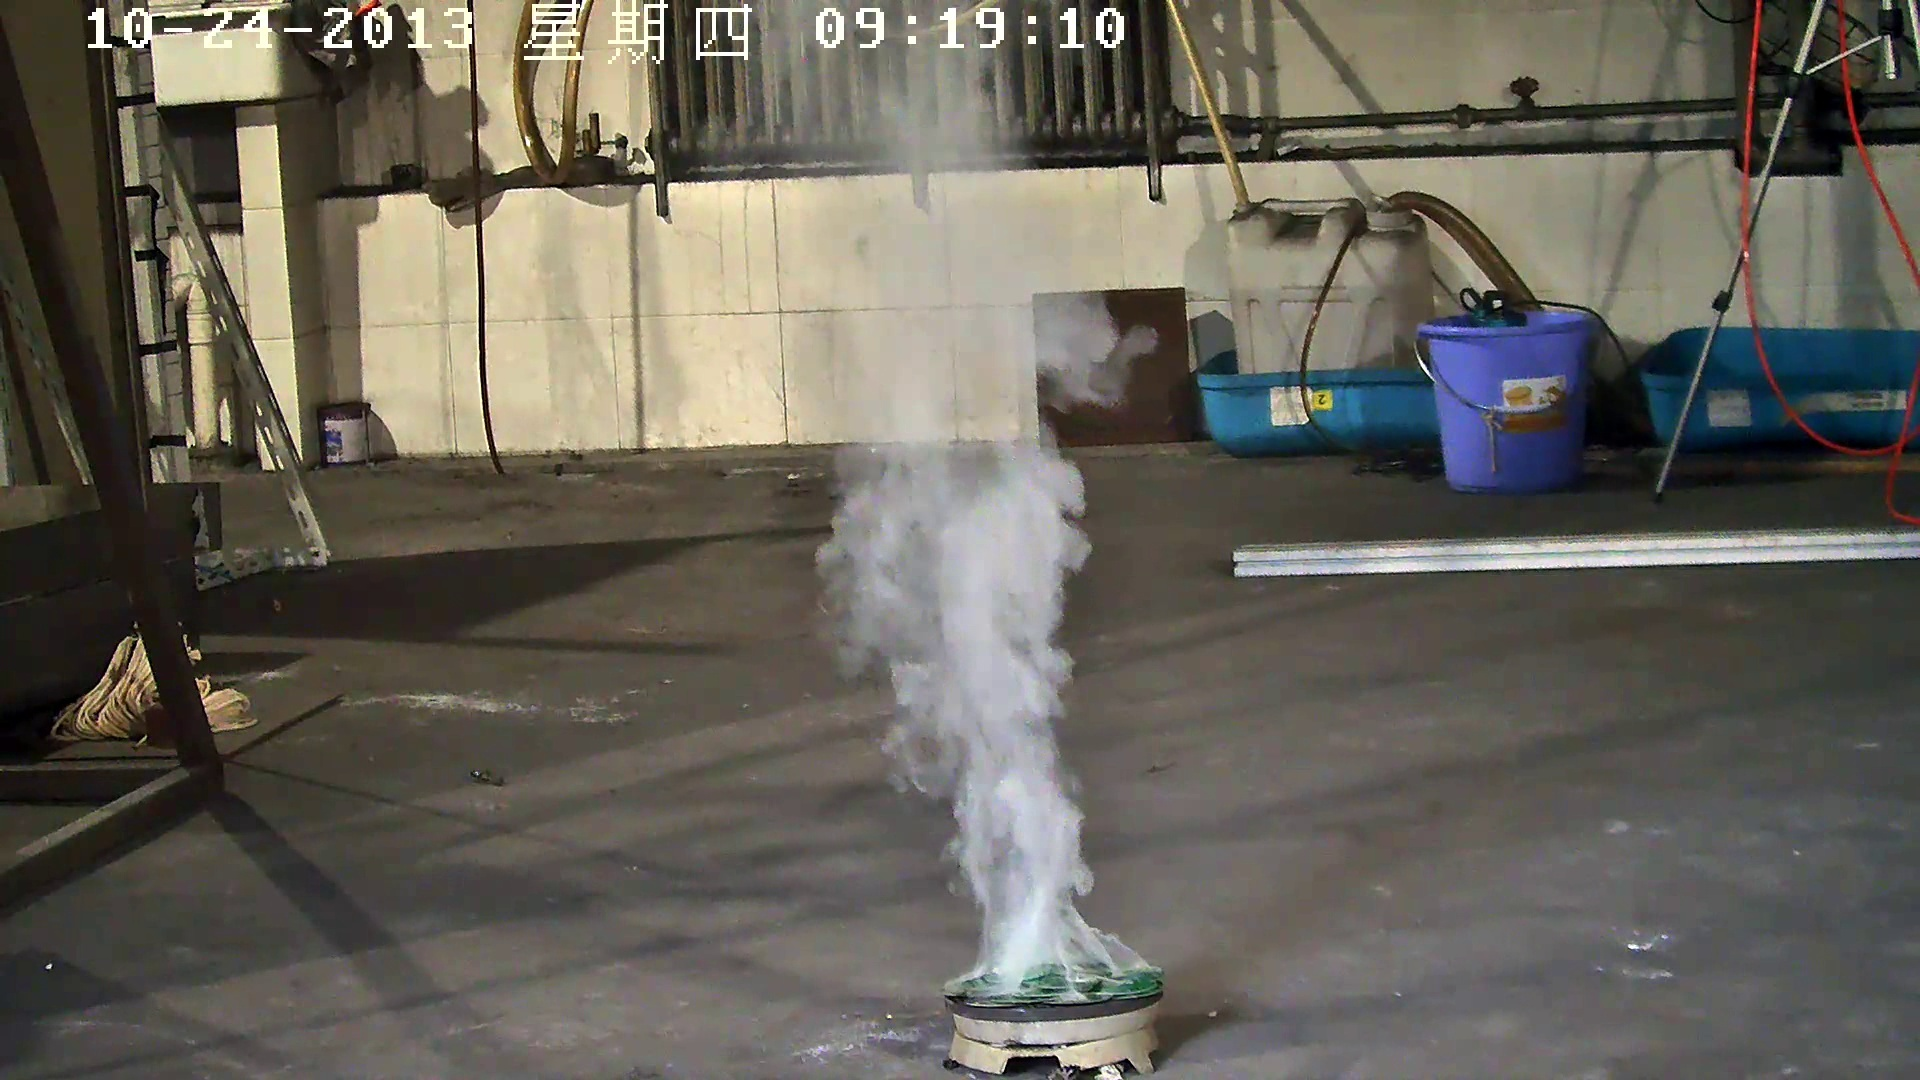smoke: (786, 84, 1182, 976)
